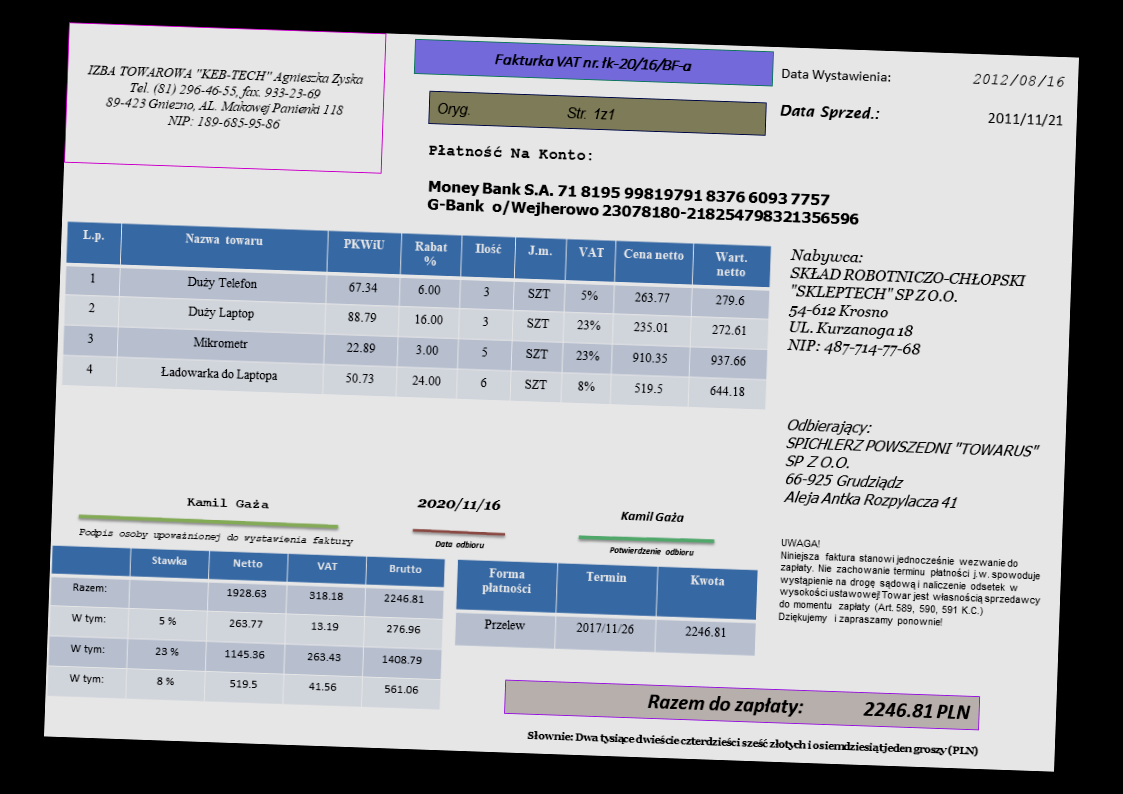Table: (60, 218, 772, 411), (46, 544, 446, 710), (453, 557, 759, 657)
TextBox: (784, 245, 1029, 365), (775, 534, 1047, 634), (781, 415, 1046, 516), (424, 175, 863, 230), (83, 58, 365, 136), (524, 726, 980, 759), (644, 689, 974, 725), (76, 524, 355, 550), (490, 50, 695, 77), (435, 98, 618, 125), (424, 141, 594, 166), (776, 101, 887, 125), (778, 64, 894, 84), (970, 69, 1068, 91), (414, 493, 503, 515), (184, 494, 274, 513), (984, 109, 1066, 129), (607, 542, 695, 559), (616, 507, 687, 526), (431, 537, 488, 552)
